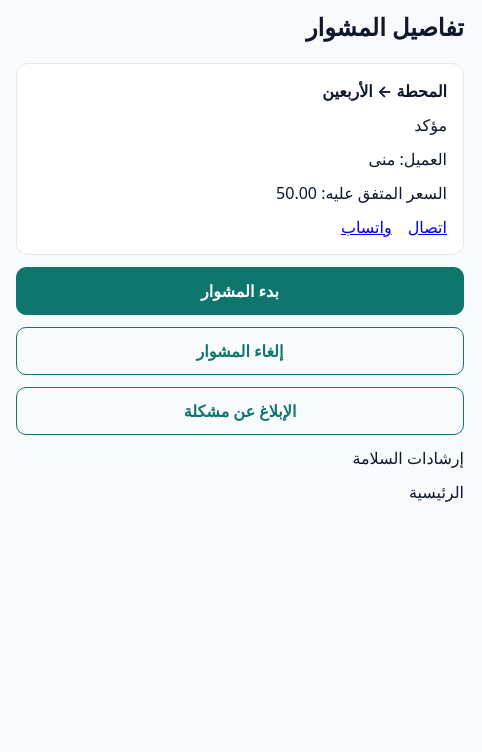
Scenario: TripDetailView reporting › files a report about the trip
Step 1. Click the button "الإبلاغ عن مشكلة" → (240, 411), box [16,387,464,435]
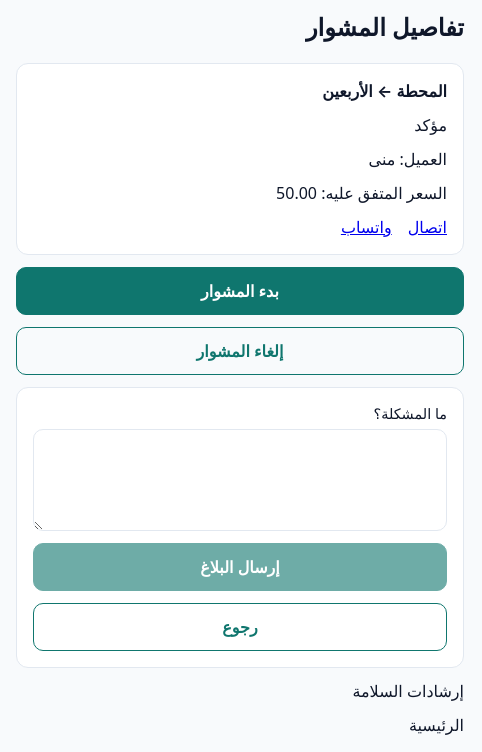
Step 2. Type "السائق لم يحضر" into the text box labelled "ما المشكلة؟" → (240, 480), box [33,429,447,531]
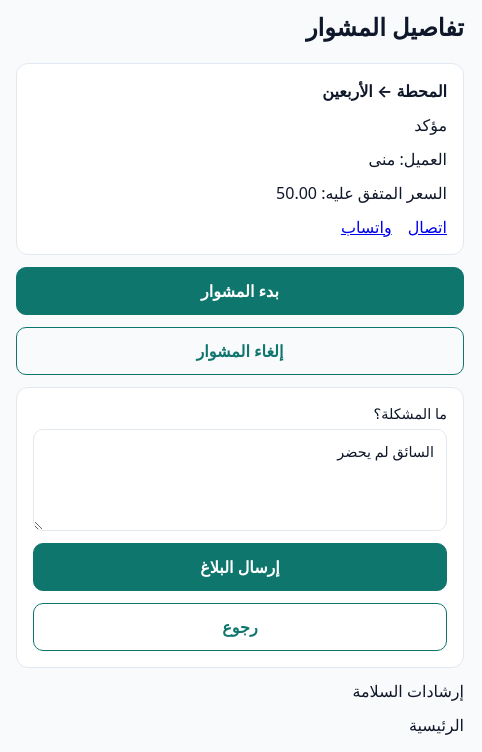
Step 3. Submit the form, box [16,387,464,668]
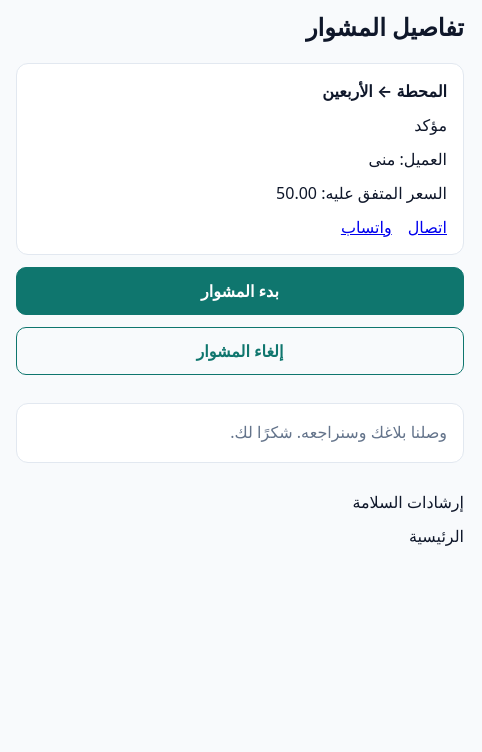
expect the text "وصلنا بلاغك" is shown: met, box [230,421,447,443]
